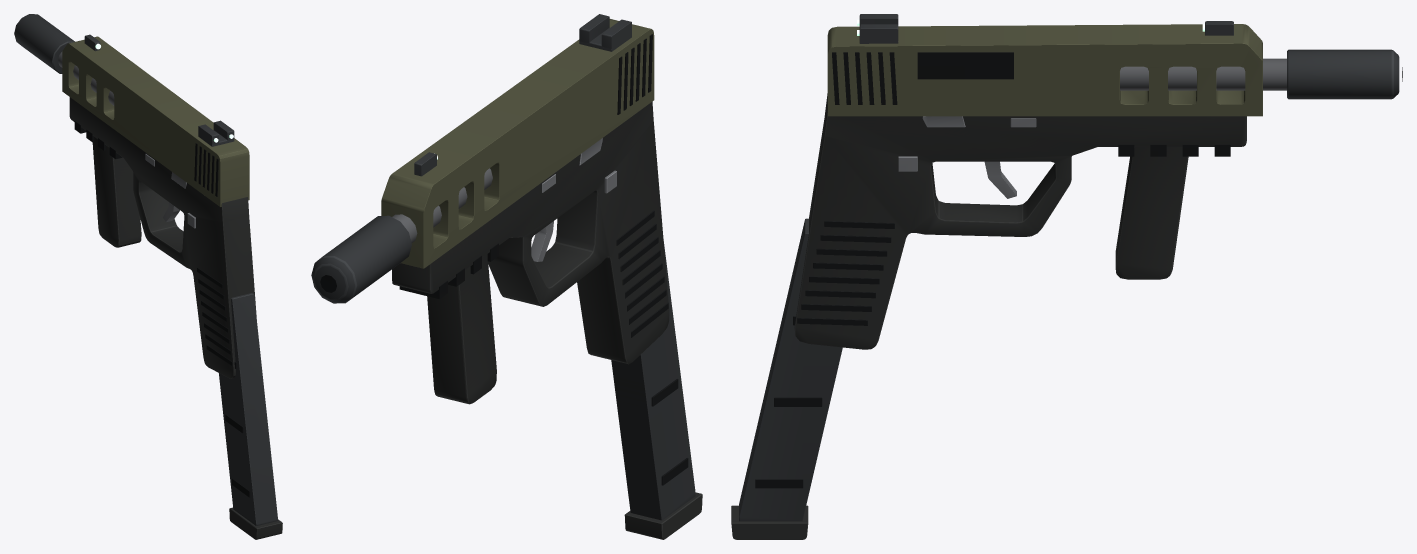
The model's file is mpistol.glb.
The picture shows the model from 3 angles, left to right: view 1: azimuth 30°, elevation 25°; view 2: azimuth 150°, elevation 25°; view 3: azimuth 270°, elevation 25°; orthographic projection. The views are drawn at different scales.
Visible parts, largest first — view 1: Body, Cell, IronSight; view 2: Body, Cell, IronSight; view 3: Body, Cell, IronSight.
Part boxes in pixels (<box>): Body: <box>14,14,256,378</box>; Cell: <box>219,293,282,539</box>; IronSight: <box>84,34,234,146</box>; Body: <box>311,19,669,404</box>; Cell: <box>611,241,702,539</box>; IronSight: <box>414,14,631,176</box>; Body: <box>794,24,1402,349</box>; Cell: <box>731,218,842,539</box>; IronSight: <box>857,14,1233,43</box>.
Bounding box in the file's own units: 0.0312 × 0.3505 × 0.418.
